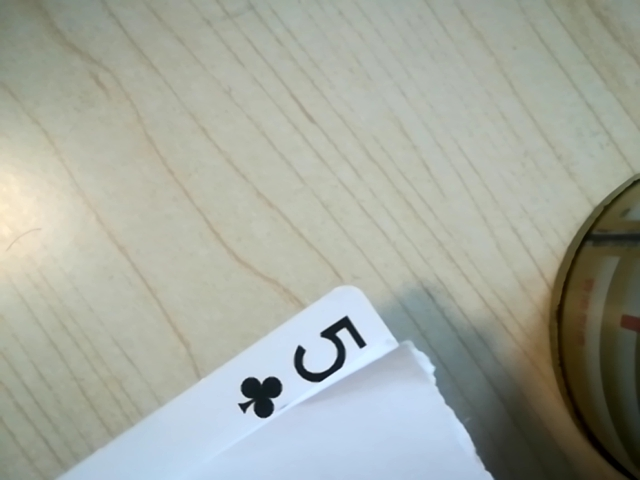mh 5: (231, 313, 382, 421)
